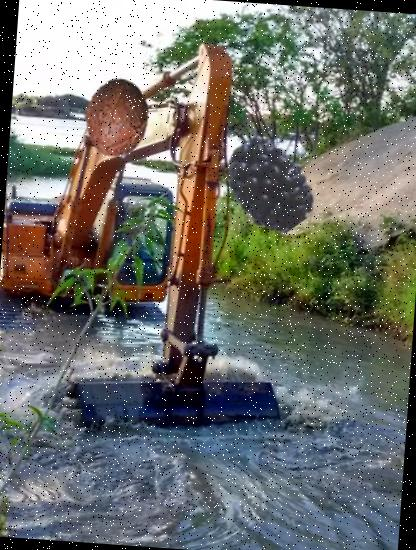Cocos: (74, 74, 160, 160)
Mulberry: (214, 130, 322, 238)
